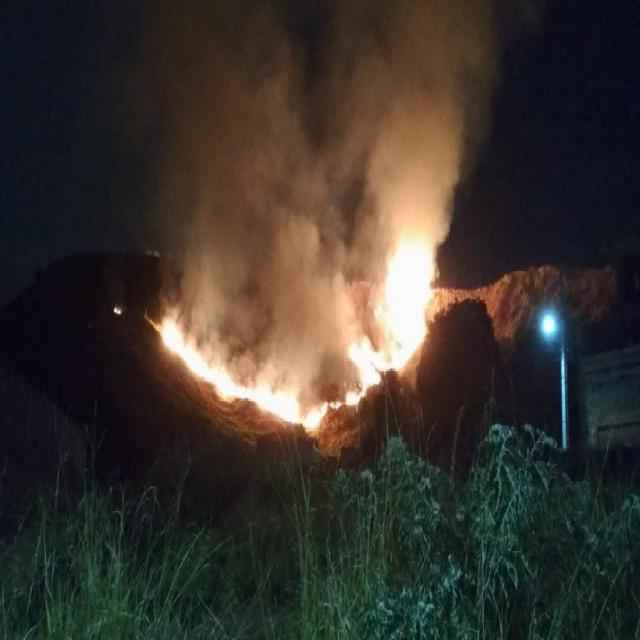Fire: (152, 316, 304, 424), (302, 319, 426, 430), (111, 304, 124, 314)
